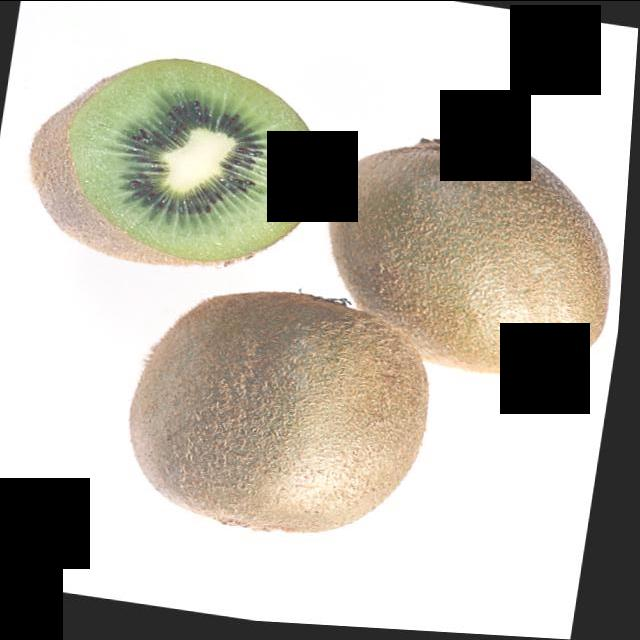kiwi: (119, 274, 454, 562), (307, 118, 634, 397)
